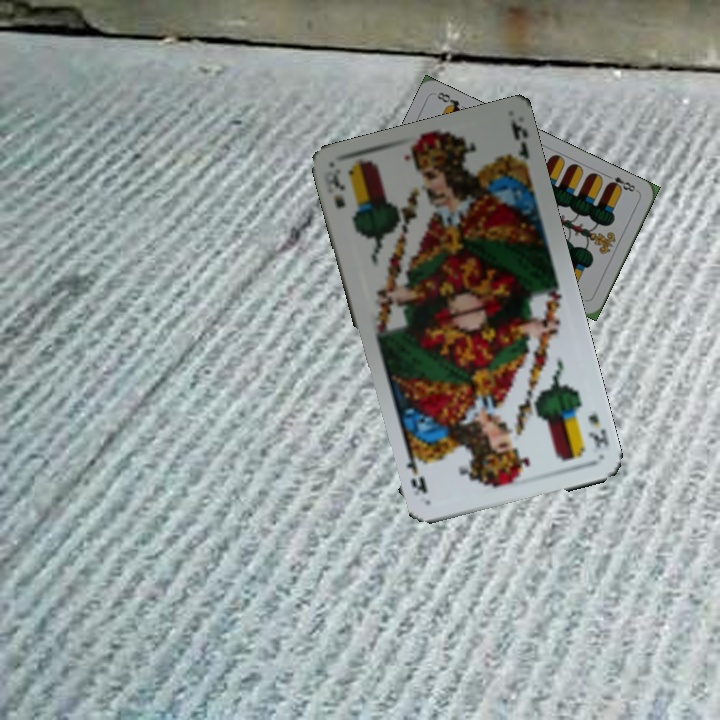E8: (602, 171, 640, 195)
EK: (320, 168, 348, 211), (584, 409, 612, 450)
